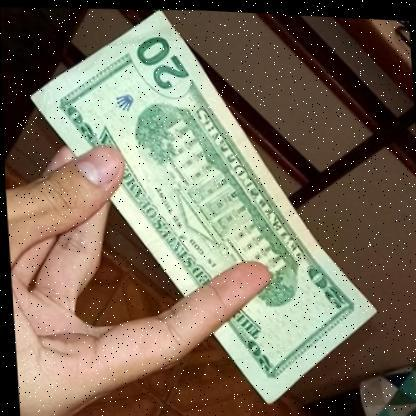dollar_back: (14, 1, 378, 416)
